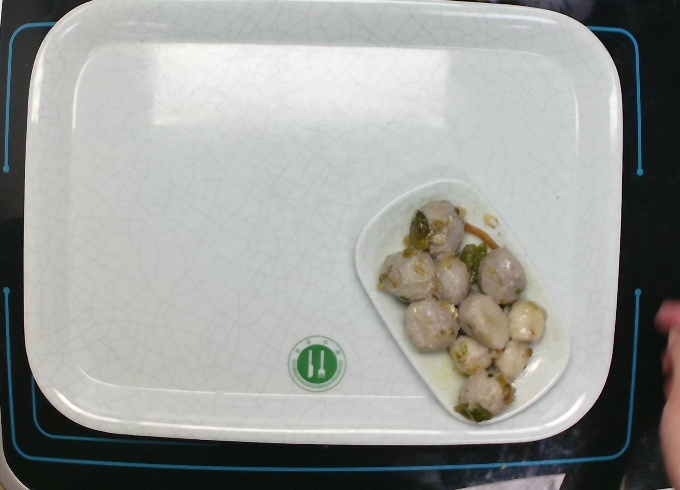WCQzf-Tuo_Yuan_Pan: (349, 175, 573, 427)
